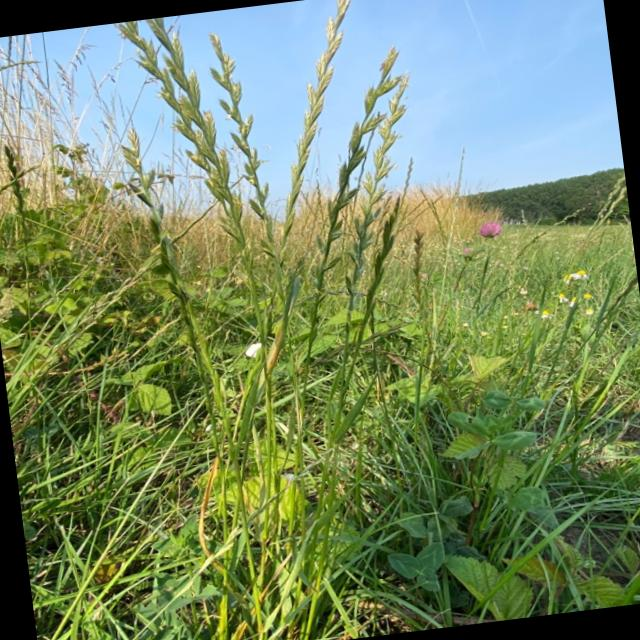Lolium: (0, 0, 640, 640), (167, 0, 432, 640), (193, 48, 468, 638), (120, 4, 351, 640)
